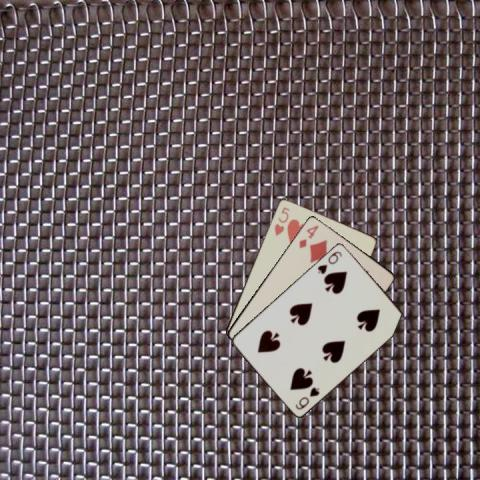4d: (296, 222, 320, 249)
5h: (271, 204, 292, 237)
6s: (292, 384, 321, 411), (315, 248, 343, 275)
